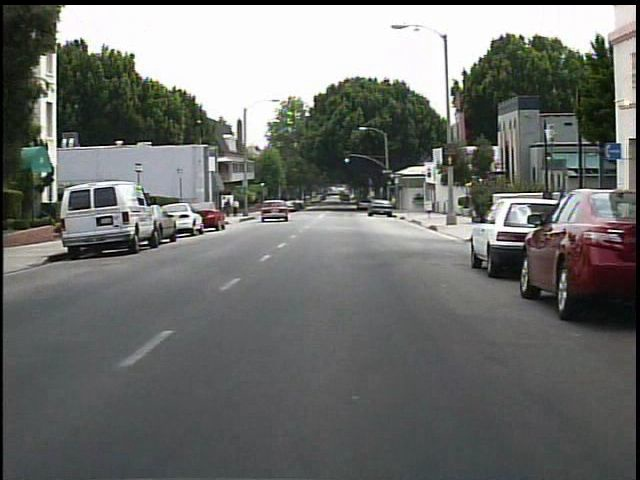person: (222, 197, 235, 220), (233, 198, 244, 220)
